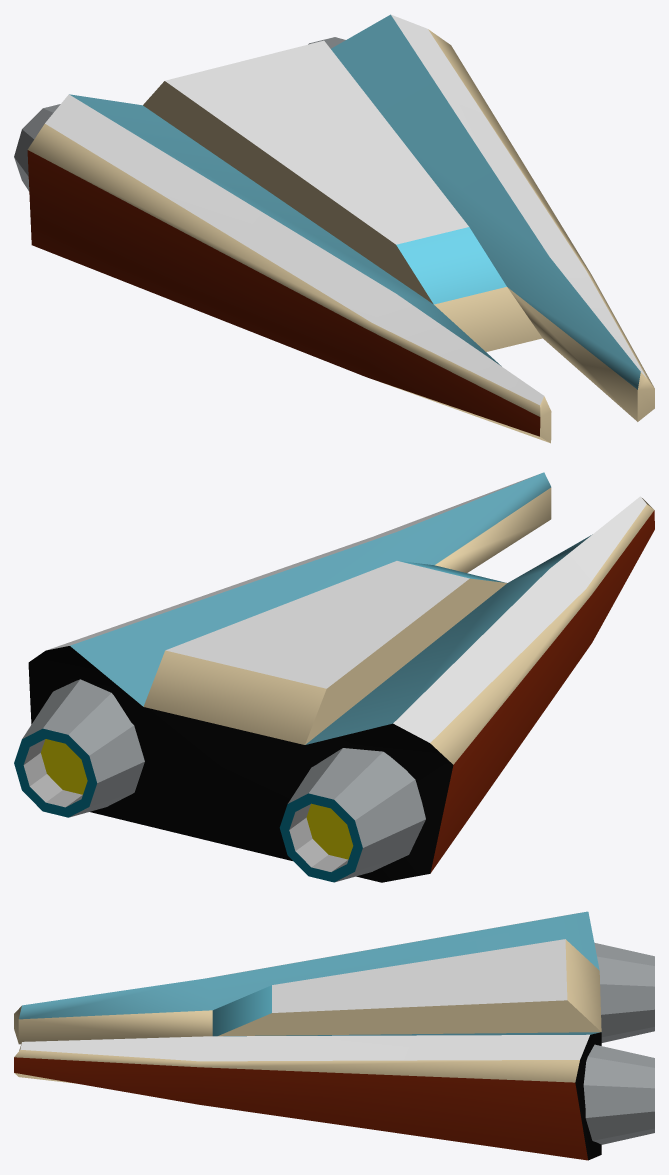
File: _paceShip.fbx
3 views of the same model, one above another, from view 1: azimuth 30°, elevation 25°; view 2: azimuth 150°, elevation 25°; view 3: azimuth 270°, elevation 25° (orthographic). The views are drawn at different scales.
Visible parts, largest first — view 1: Body, Engine; view 2: Body, Engine, Engin2; view 3: Body, Engin2, Engine.
Part boxes in pixels (x1,y1,x2,y2): Body: (27, 14, 654, 443); Engine: (14, 104, 60, 191); Body: (28, 472, 654, 882); Engine: (279, 748, 425, 882); Engin2: (14, 679, 144, 817); Body: (14, 911, 601, 1160); Engin2: (583, 1044, 654, 1144); Engine: (594, 942, 654, 1042).
Size of the model in its own units: 7.53 by 2.7 by 12.57.
